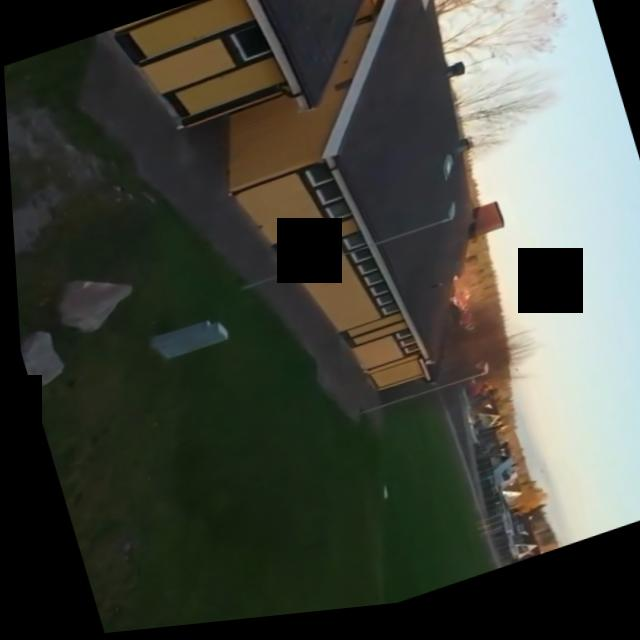Building: (178, 0, 556, 446), (101, 0, 461, 180)
Pole: (224, 207, 464, 301), (336, 368, 494, 431)
